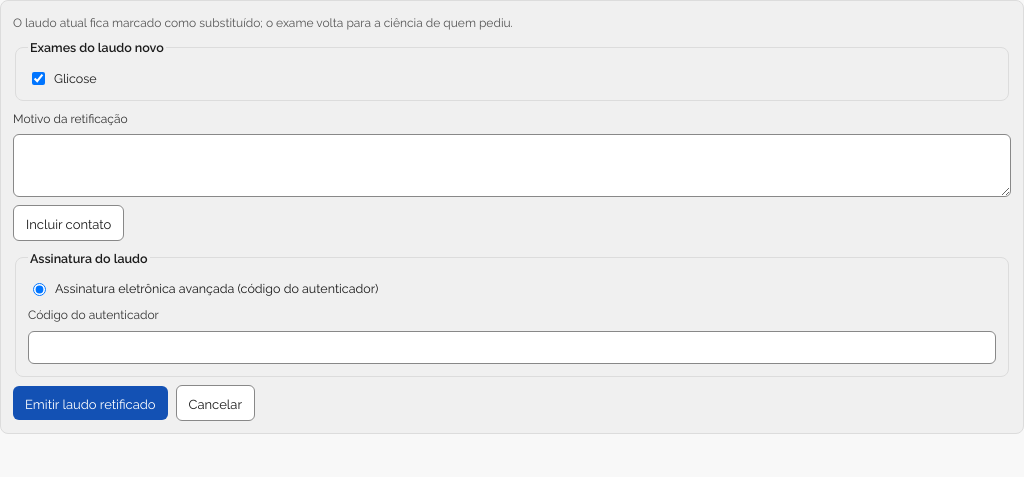
RectifyForm › exige motivo e quem foi avisado antes de enviar
The image size is (1024, 477).
Step 1. Click the button "Emitir laudo retificado" → coordinates (90, 402), box [13,386,168,420]
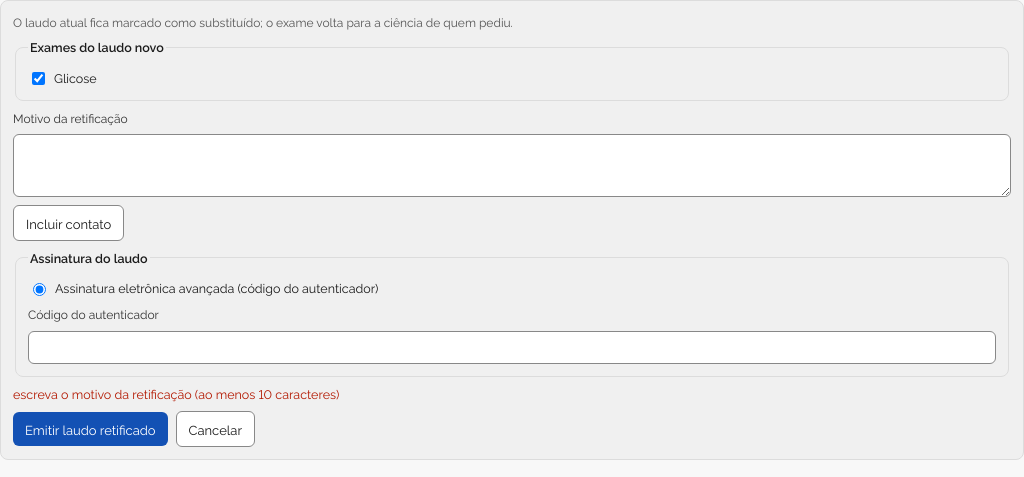
Now the message reads "escreva o motivo da retificação (ao menos 10 caracteres)", box [13,384,339,402]
Step 2. Type "valor de glicose digitado trocado" into the text box labelled "Motivo da retificação" → coordinates (512, 165), box [13,134,1011,197]
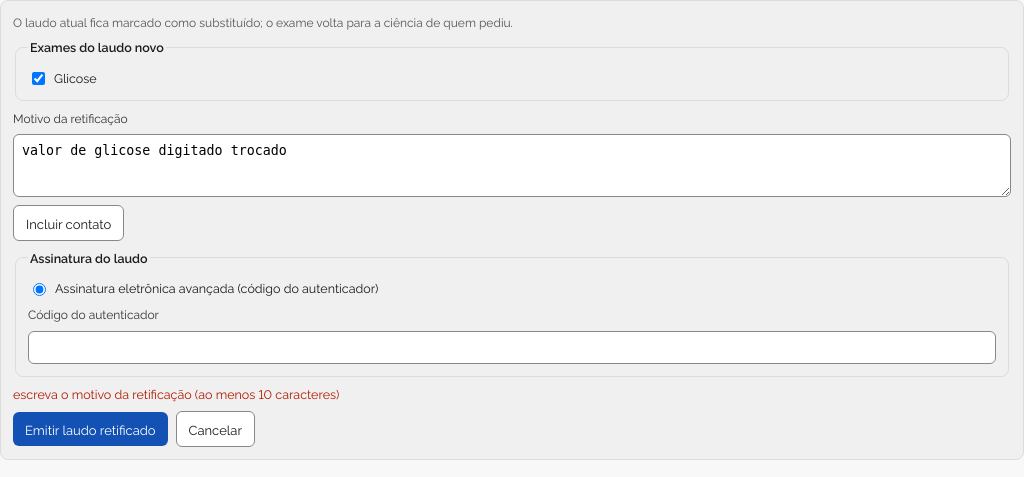
Step 3. Click the button "Emitir laudo retificado" → coordinates (90, 429), box [13,412,168,446]
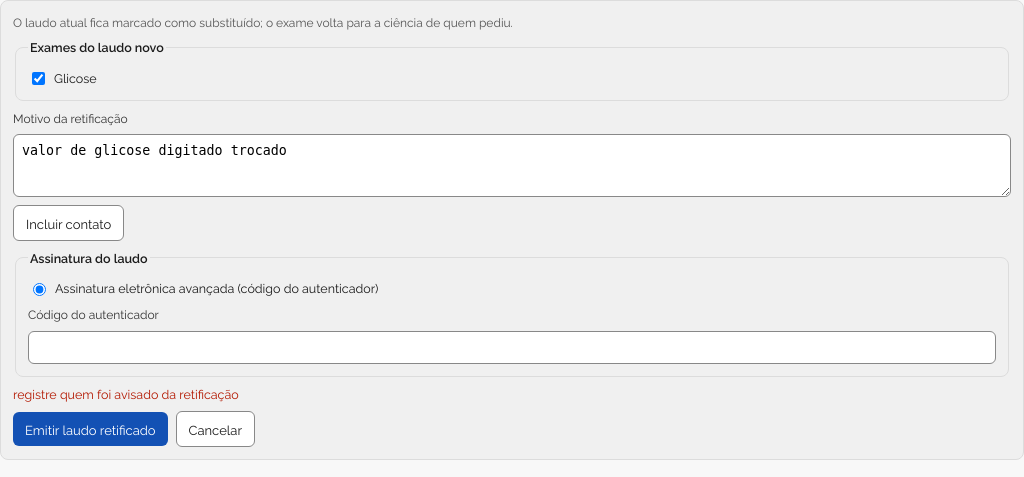
Now the message reads "registre quem foi avisado da retificação", box [13,384,239,402]
